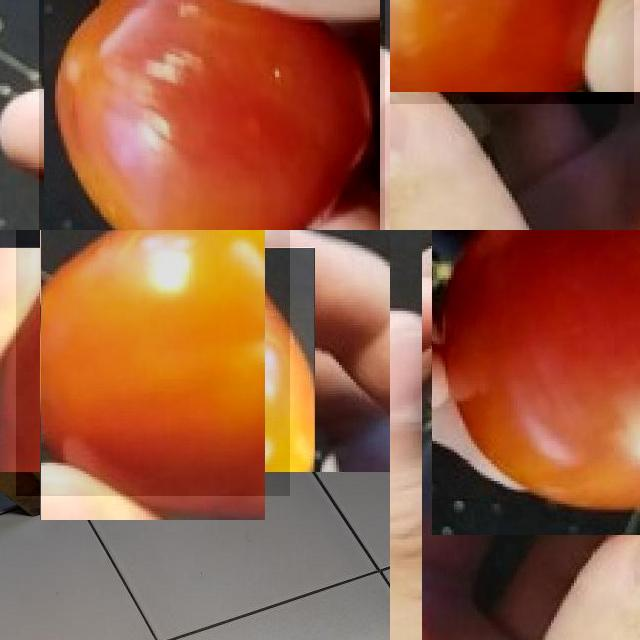Fresh Tomato: (16, 230, 289, 496), (390, 0, 634, 104)
Rotten Tomato: (38, 0, 385, 230), (432, 230, 640, 534)
